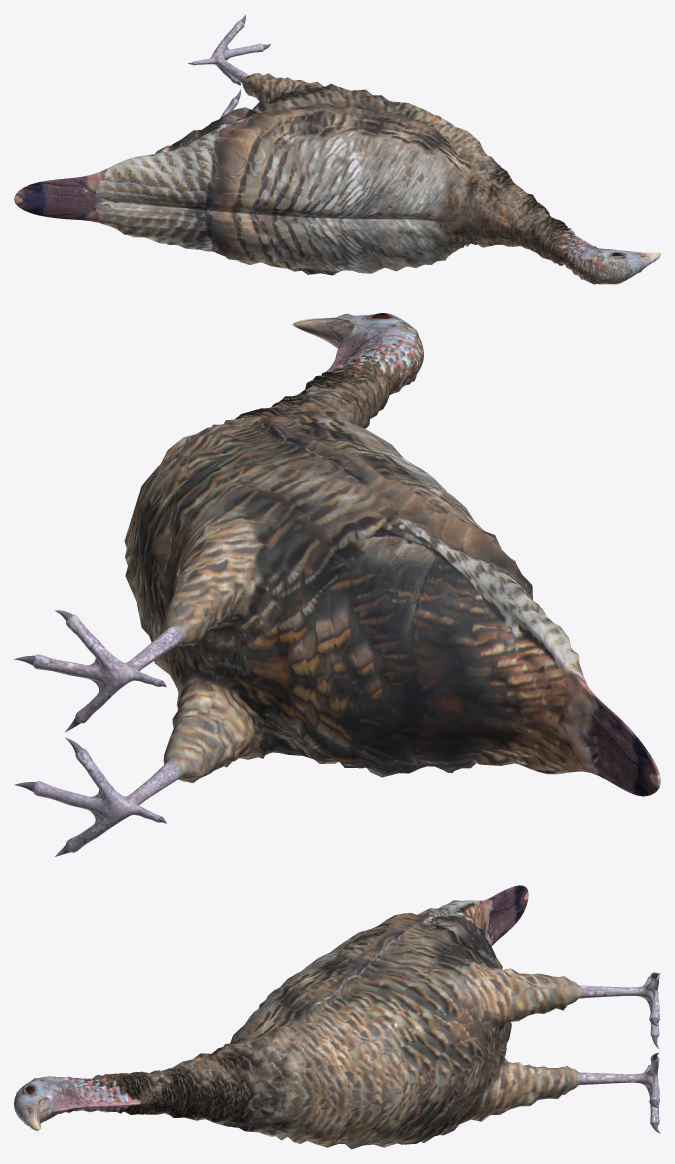
File: 11561_Turkey - Wild_female_v4_l1.obj
3 renders of one model, top to bottom at view 1: azimuth 30°, elevation 25°; view 2: azimuth 150°, elevation 25°; view 3: azimuth 270°, elevation 25°, orthographic. The views are drawn at different scales.
Parts seen in each view (by area): view 1: Turkey_wild_female; view 2: Turkey_wild_female; view 3: Turkey_wild_female.
Boxes of the visible parts, x1,y1,x2,y2 form: Turkey_wild_female: [14, 14, 660, 284]; Turkey_wild_female: [14, 313, 660, 856]; Turkey_wild_female: [14, 885, 660, 1149].
Size of the model in its own units: 76.58 by 27.66 by 88.74.
Materials: 1 (1 with a texture image).
